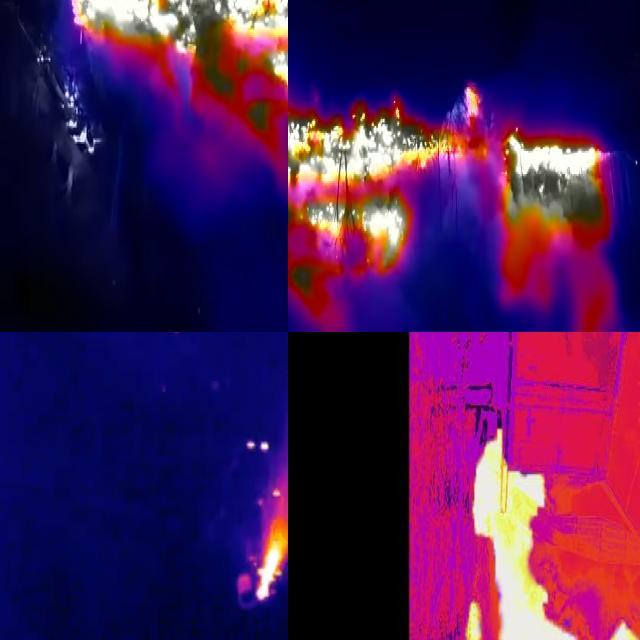fire: (453, 400, 595, 640), (289, 75, 422, 327), (68, 1, 289, 140), (499, 133, 614, 303), (425, 79, 493, 254), (256, 477, 289, 605)
